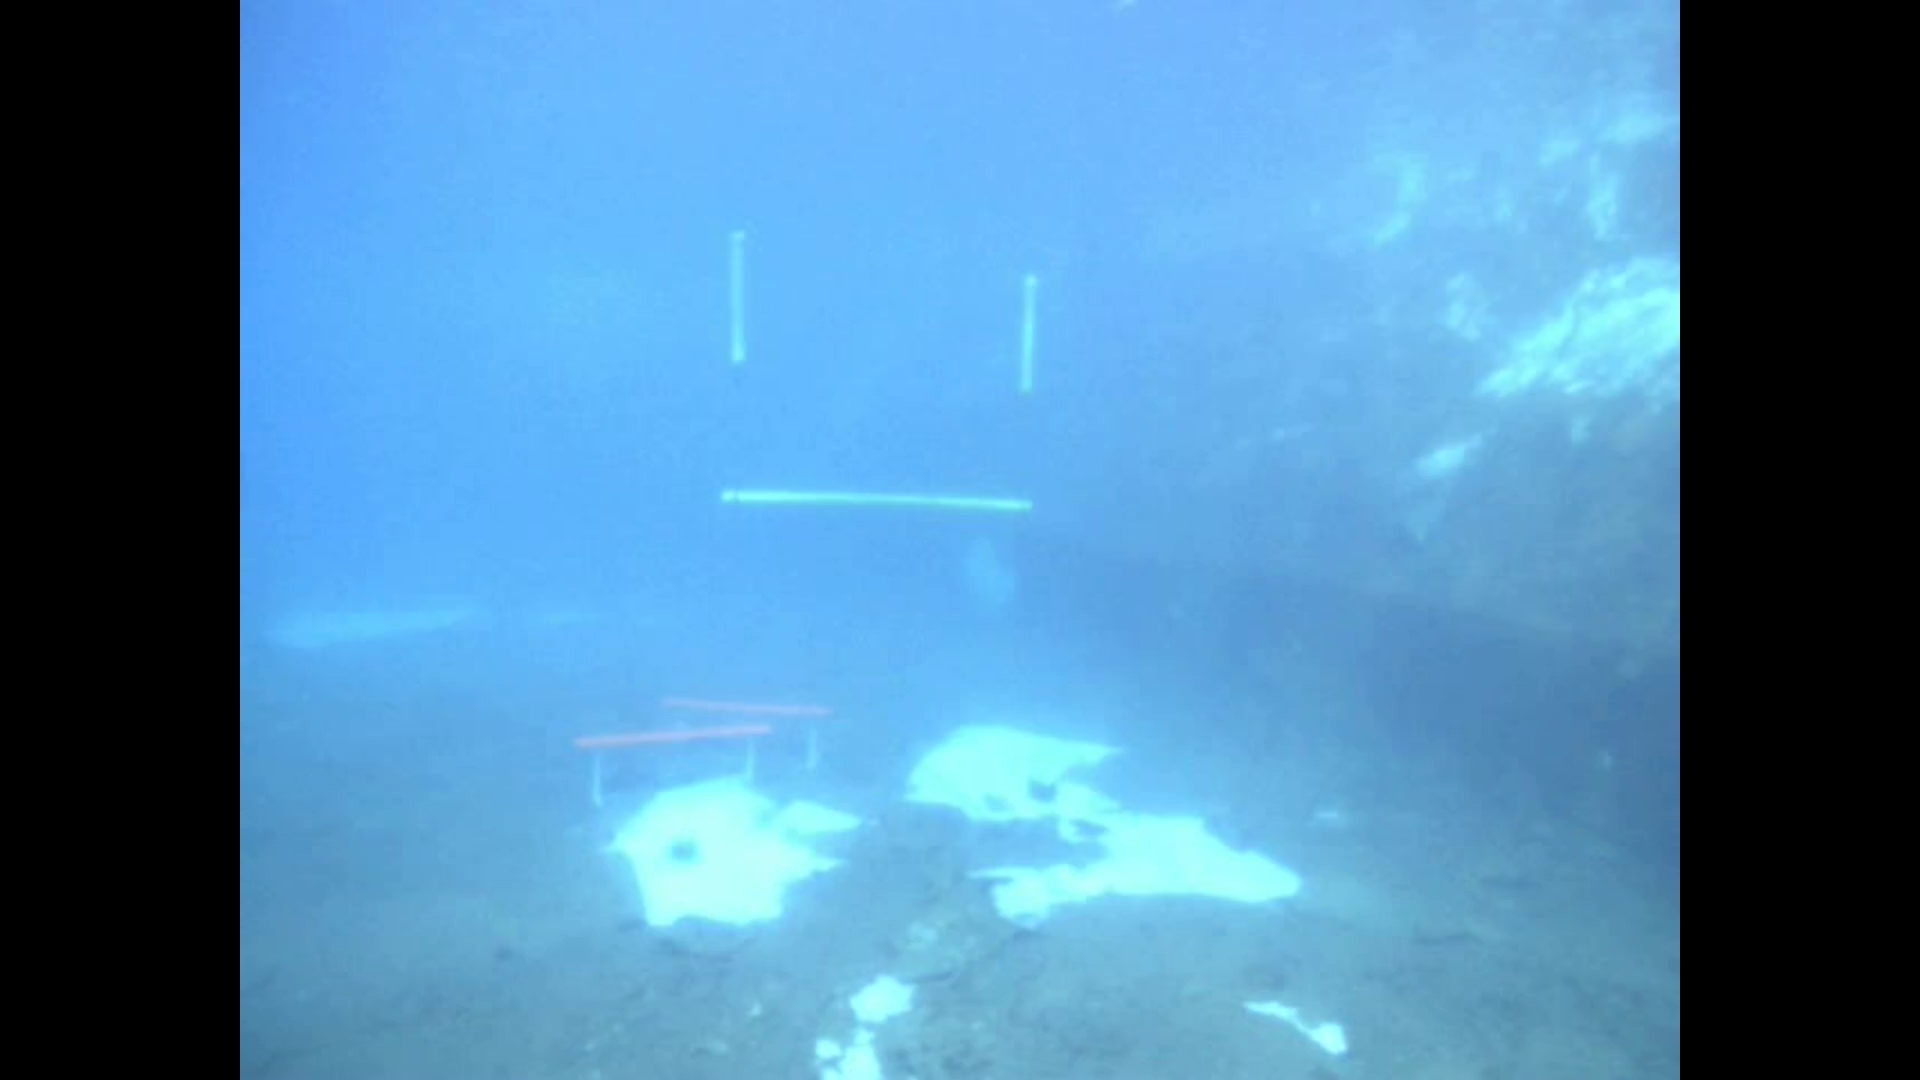gate: (712, 224, 1043, 520)
